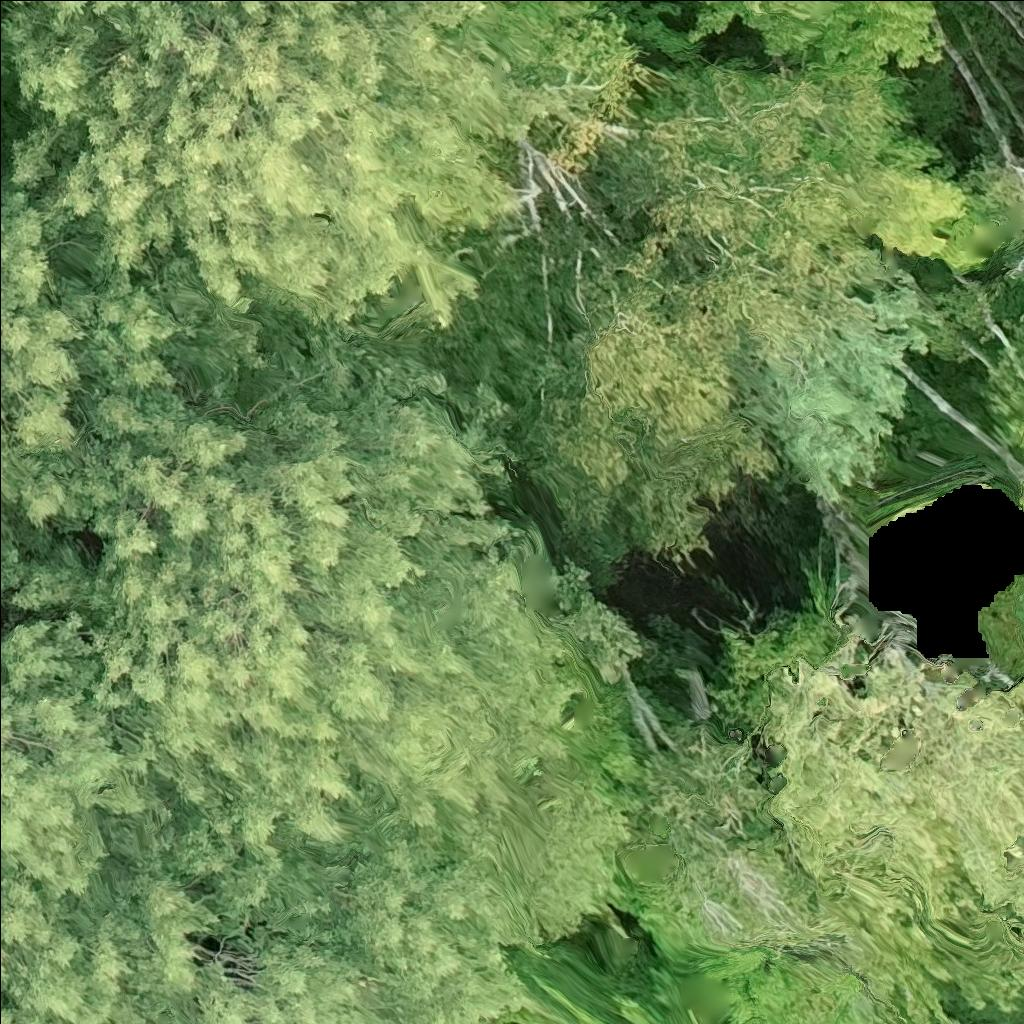crown: (0, 0, 565, 329), (0, 98, 282, 595), (0, 0, 37, 69)
